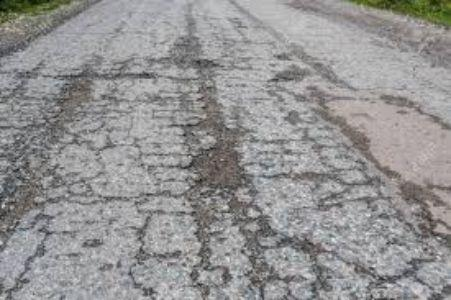alligator-crack: (131, 205, 450, 300), (121, 98, 183, 204), (263, 139, 366, 202), (4, 123, 118, 173), (38, 181, 131, 227), (370, 155, 449, 204), (214, 15, 269, 80), (4, 90, 42, 118)
crack: (4, 253, 45, 300)
pothole: (185, 143, 258, 197), (0, 179, 36, 249), (45, 81, 98, 124), (174, 112, 260, 135), (54, 65, 159, 83), (147, 53, 227, 76), (314, 56, 355, 91), (269, 63, 310, 88), (196, 77, 226, 109), (171, 33, 210, 51), (176, 5, 203, 31), (378, 93, 419, 110), (282, 106, 309, 128), (13, 67, 41, 87), (273, 50, 301, 62)
